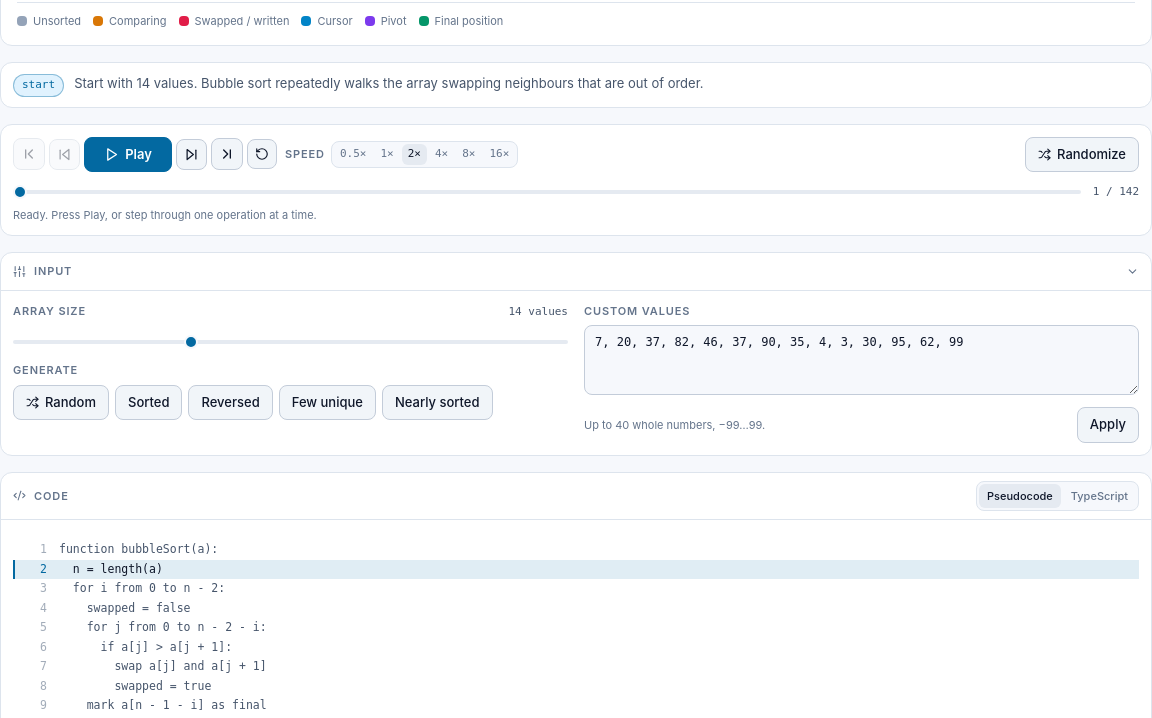
Test case: SortingPage › reports invalid custom input instead of crashing
(page scrolled)
Replace the text in the text box labelled "Custom values" with "abc" at (862, 360), box 584,325 -> 1139,395
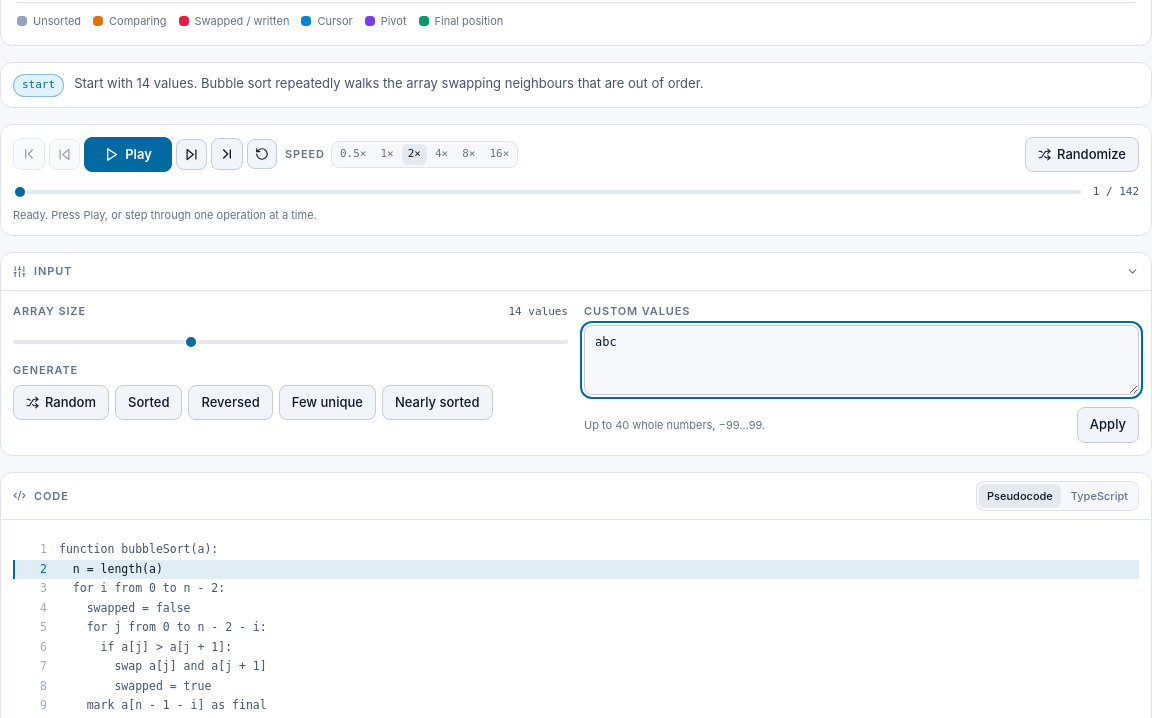
Click the button "Apply" at (1108, 425), box 1077,407 -> 1139,442
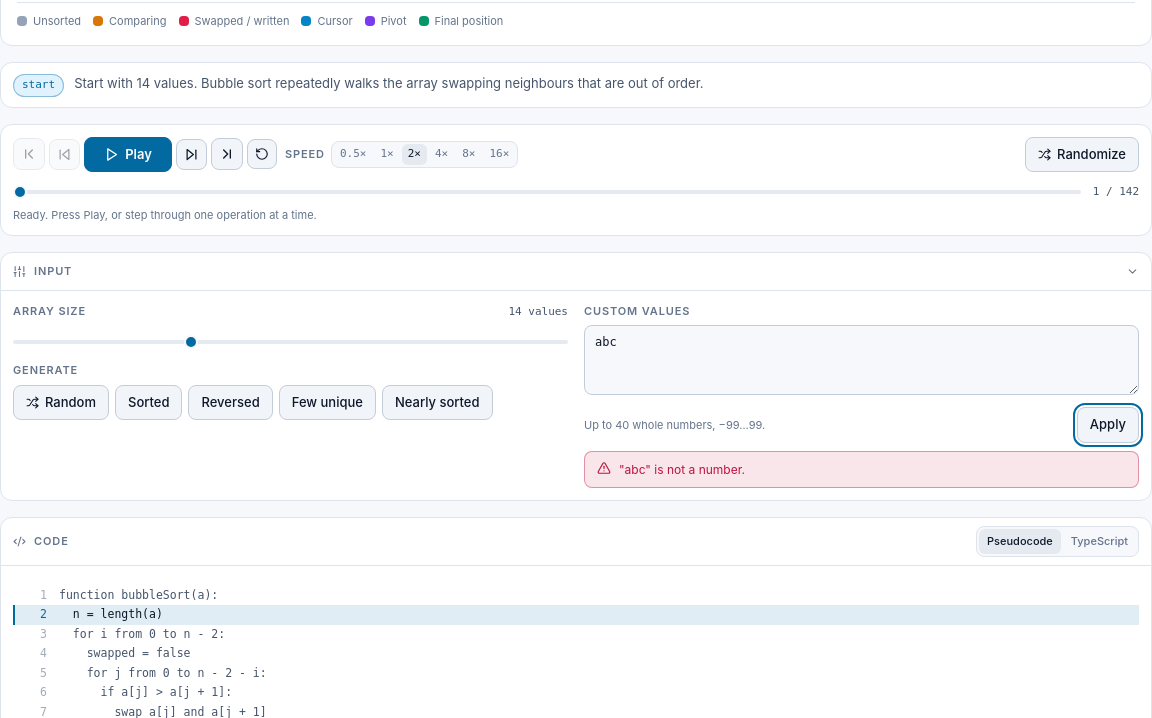
Check: the message shows "is not a number", box 619,462 -> 745,476
